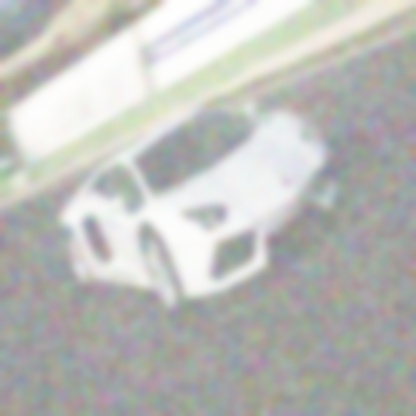Vehicle: (64, 100, 336, 314)
